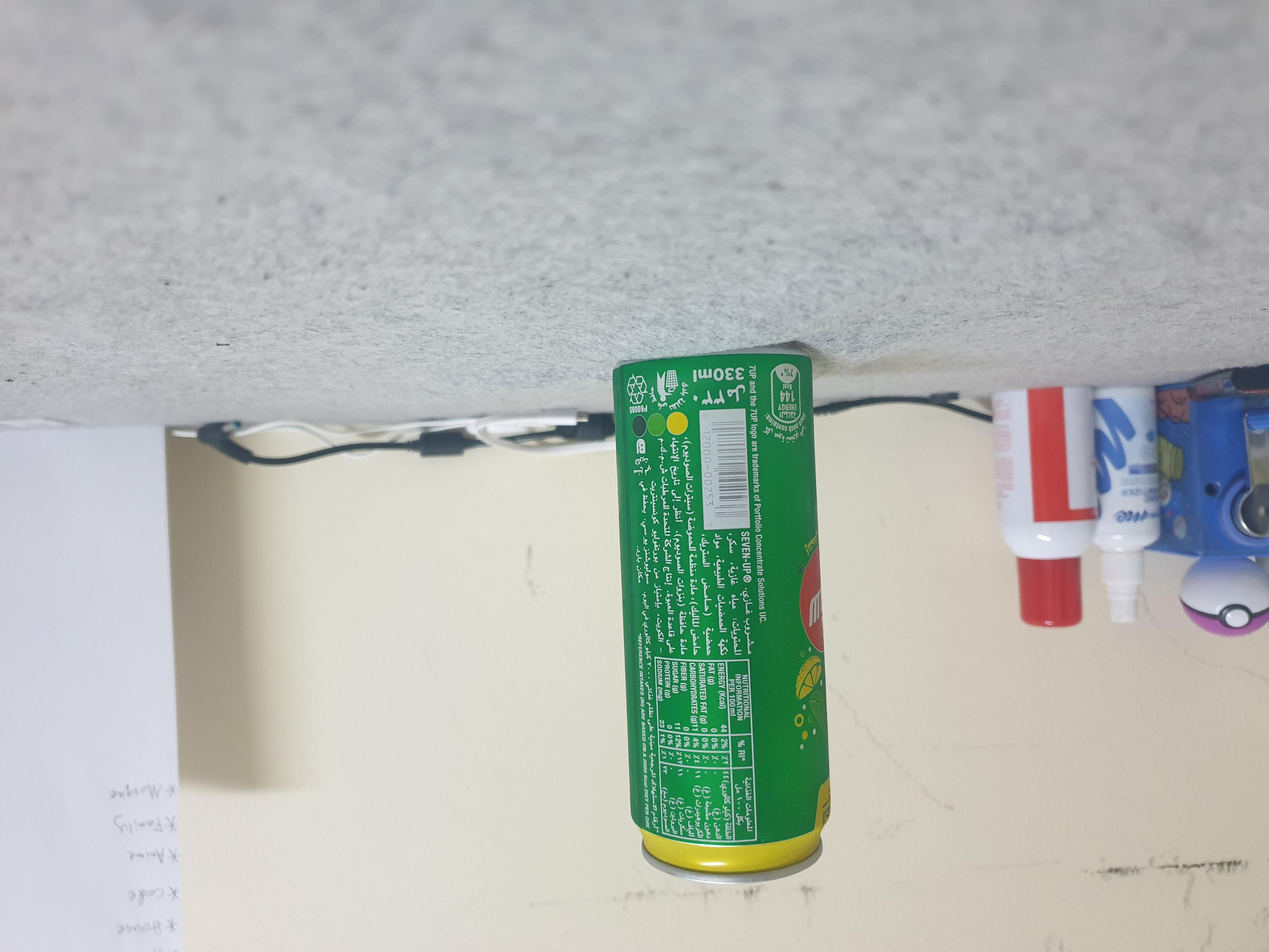debris: (599, 347, 845, 895)
